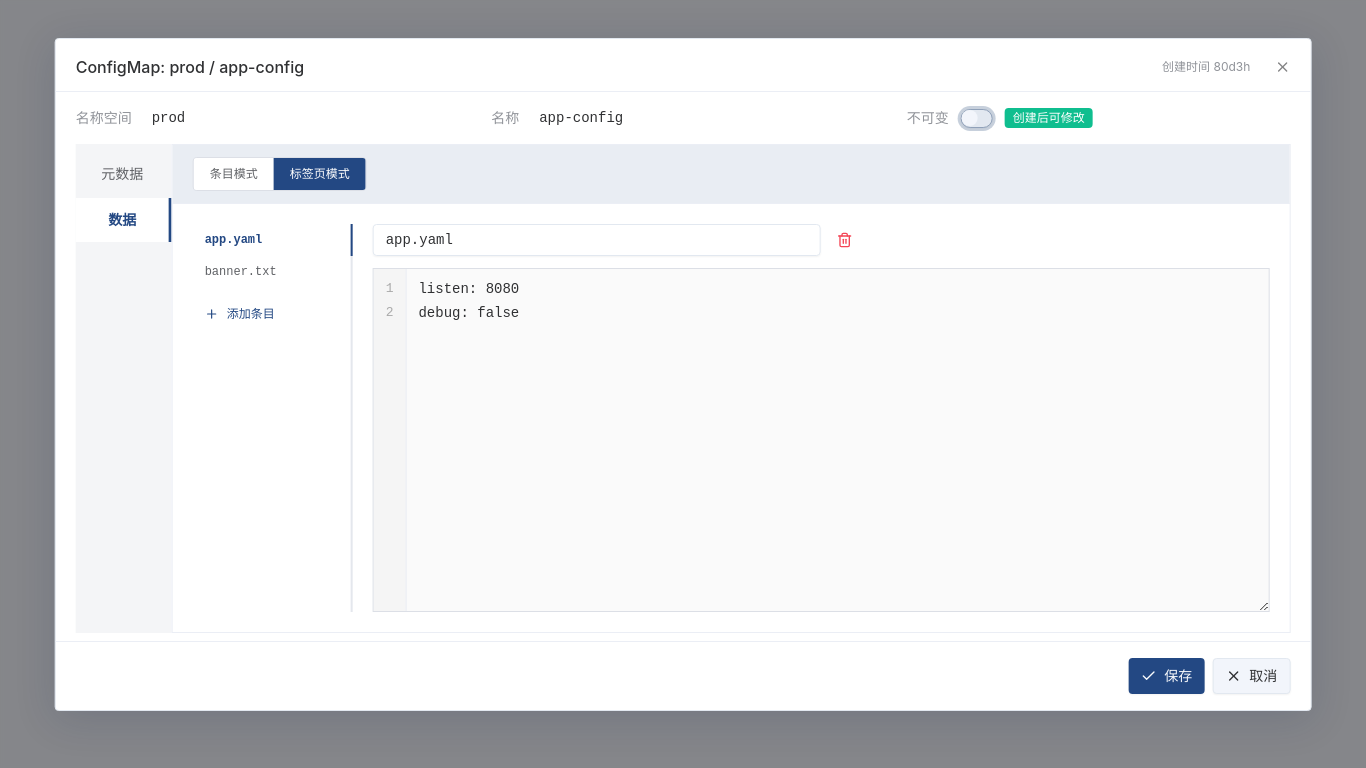
ConfigMap dialog editing › preserves the draft on conflict and skips writes on dry-run failure
Replace the text in the text box named "值 1" with "draft" at (837, 440), box [406, 269, 1268, 611]
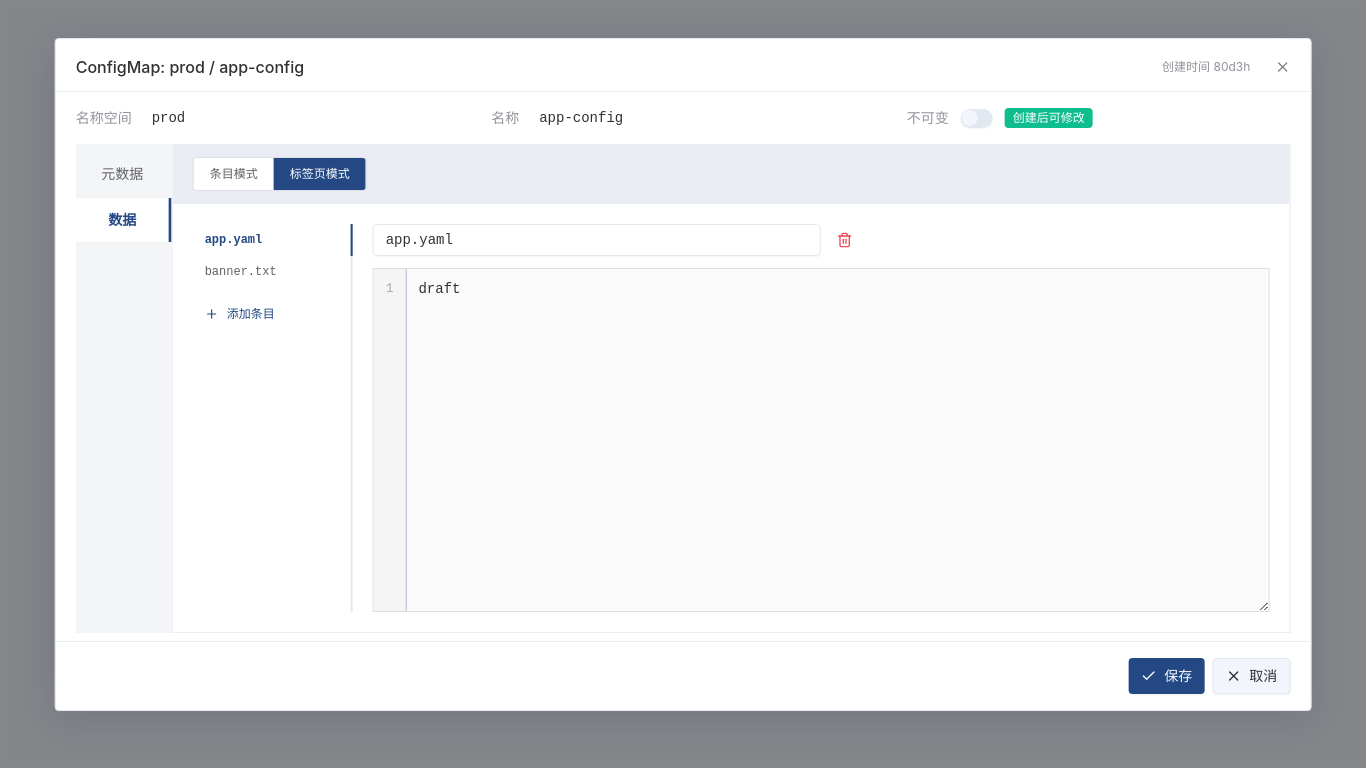
Click the button "保存" at (1166, 676), box [1128, 658, 1204, 694]
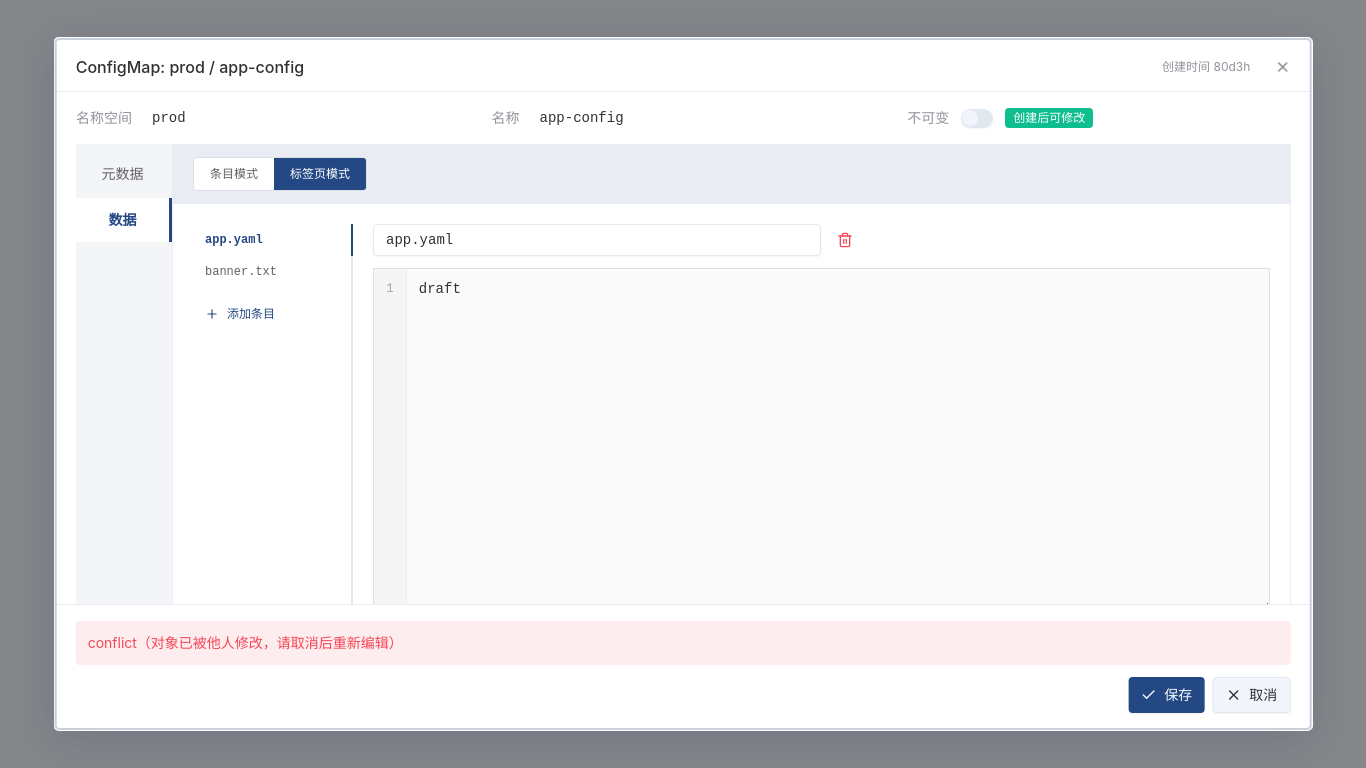
Expected: the message shows "对象已被他人修改", [88, 634, 403, 651]
